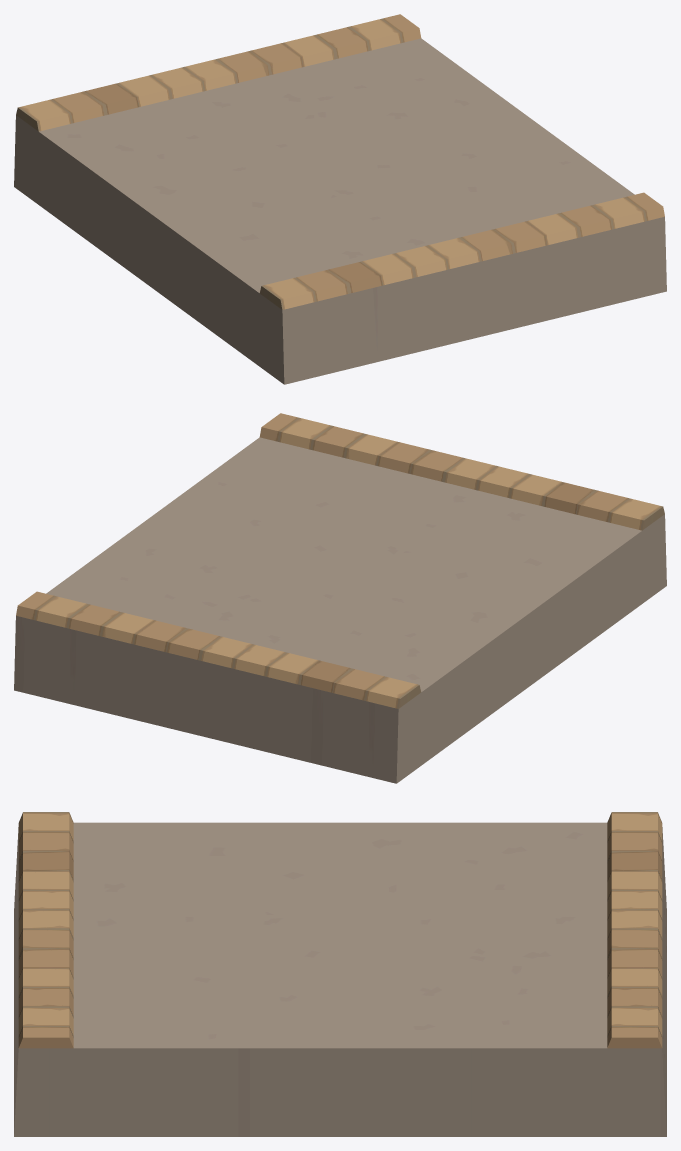
The model's file is SM_Env_Path_01.obj.
3 views of the same model, one above another, from view 1: azimuth 30°, elevation 25°; view 2: azimuth 150°, elevation 25°; view 3: azimuth 270°, elevation 25° (orthographic). The views are drawn at different scales.
Parts seen in each view (by area): view 1: SM_Env_Path_01_0, SM_Env_Path_01_1; view 2: SM_Env_Path_01_0, SM_Env_Path_01_1; view 3: SM_Env_Path_01_0, SM_Env_Path_01_1.
Part boxes in pixels (x1,y1,x2,y2): SM_Env_Path_01_0: [14, 38, 666, 384]; SM_Env_Path_01_1: [16, 14, 664, 309]; SM_Env_Path_01_0: [14, 437, 666, 783]; SM_Env_Path_01_1: [16, 413, 664, 708]; SM_Env_Path_01_0: [14, 822, 666, 1136]; SM_Env_Path_01_1: [18, 812, 662, 1048].
Size of the model in its own units: 2.5 by 0.5131 by 3.06.
Materials: 2 (2 with a texture image).
